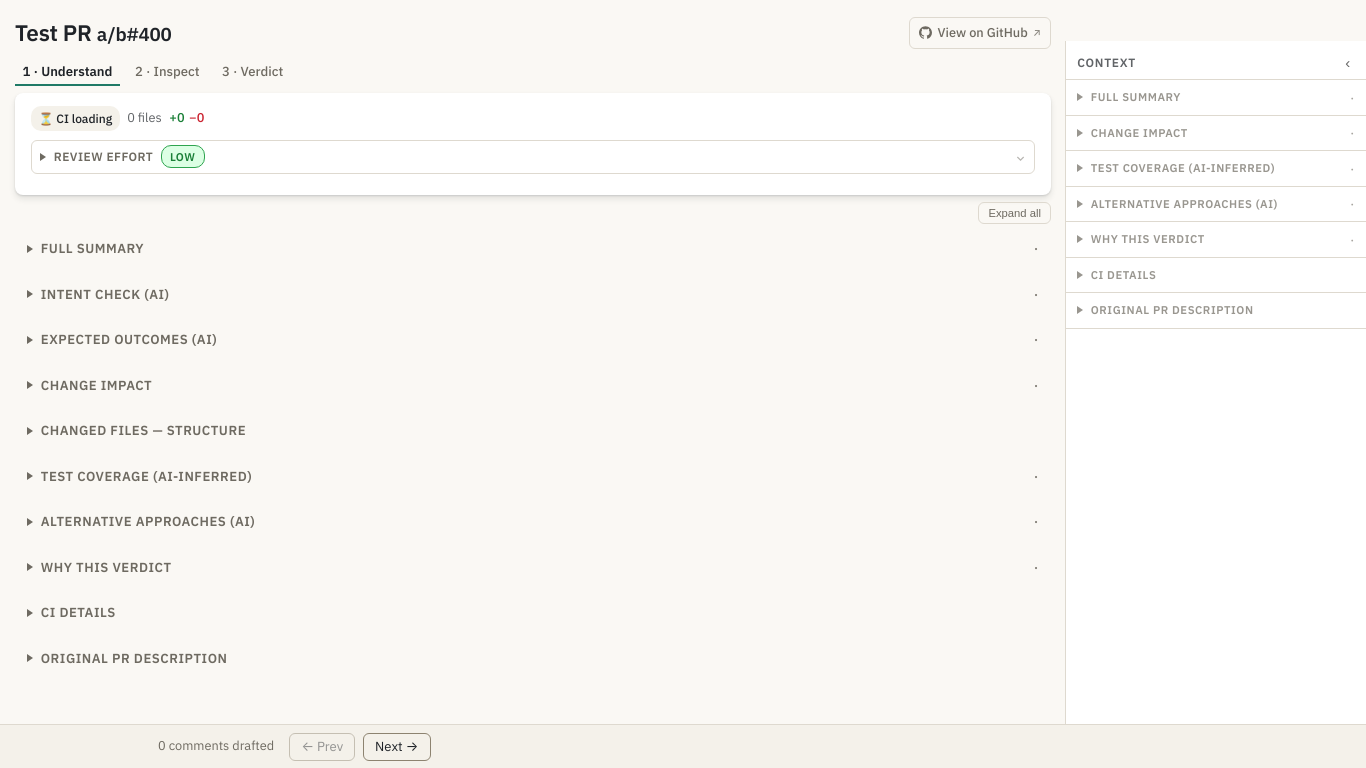
Since-last-visit — banner visibility › shows banner in step 2 when headSha differs from last visit
This screenshot has width=1366, height=768.
Check: the message "0 comments drafted" is shown, box [158,736,274,757]
Check: the text "changed since your last visit" is not shown
# Navigate to step 2 → banner appears
Click the button with aria-label "next step".
click(397, 746)  # box [363,732,430,760]
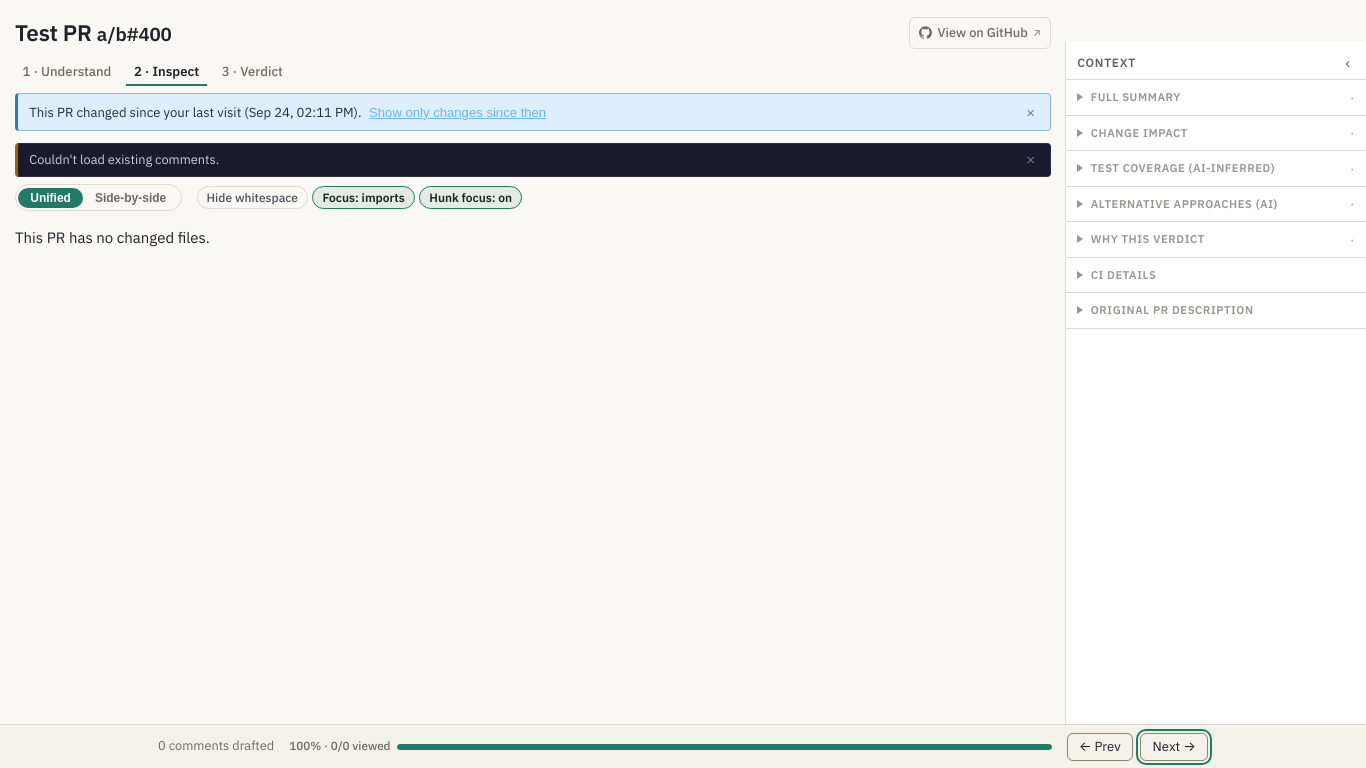
Check: the text "changed since your last visit" is shown, box [29,104,362,121]
Check: the button "Show only changes since then" is shown, box [369,105,546,120]
